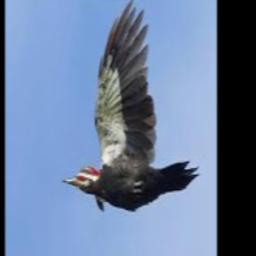Woodpecker: (61, 0, 200, 210)
